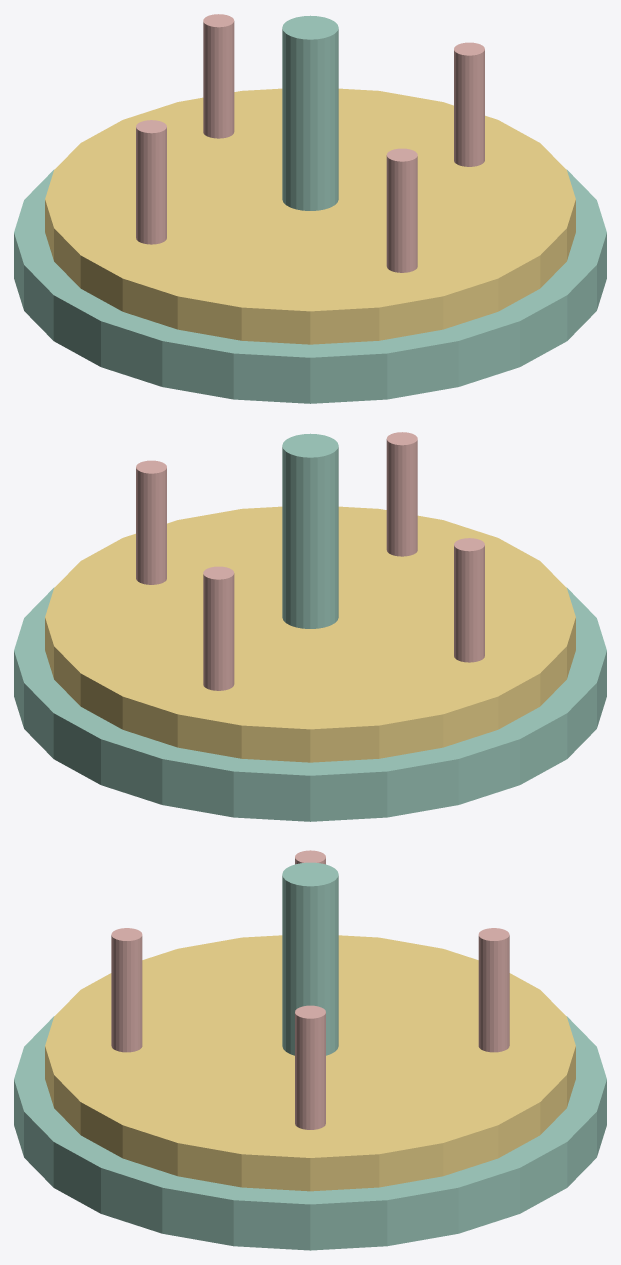
The model's file is carousel.glb.
3 views of the same model, one above another, from view 1: azimuth 30°, elevation 25°; view 2: azimuth 150°, elevation 25°; view 3: azimuth 270°, elevation 25° (orthographic).
Visible parts, largest first — view 1: turntable, centre post, soft handle; view 2: turntable, centre post, soft handle; view 3: turntable, centre post, soft handle.
Part boxes in pixels (x1,y1,x2,y2): turntable: (45, 88, 575, 344); centre post: (14, 15, 606, 403); soft handle: (136, 14, 484, 272); turntable: (45, 506, 575, 762); centre post: (14, 433, 606, 821); soft handle: (136, 432, 484, 690); turntable: (45, 935, 575, 1191); centre post: (14, 862, 606, 1250); soft handle: (111, 850, 509, 1129).
Size of the model in its own units: 2.1 by 0.98 by 2.1.
